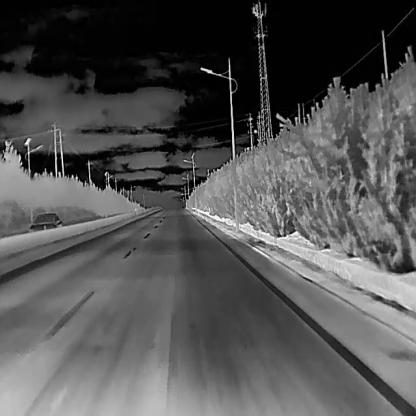car: (26, 213, 60, 231)
